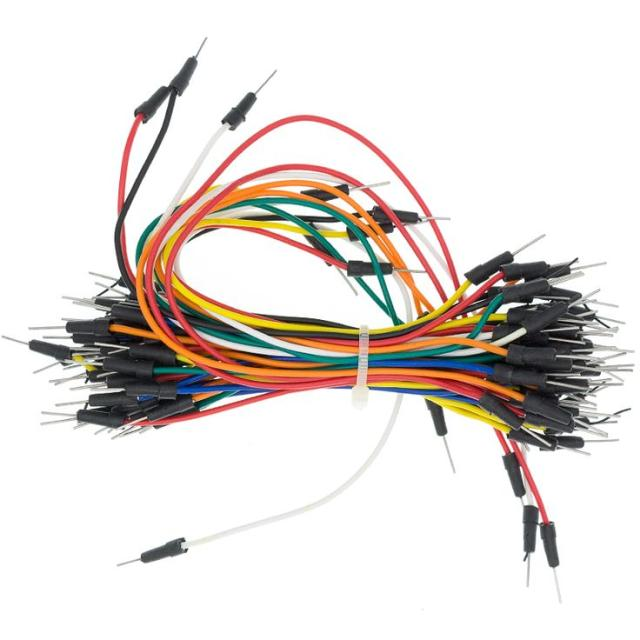Jumper Wires: (7, 19, 633, 617)
